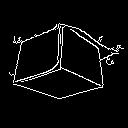cube: (14, 11, 116, 105)
